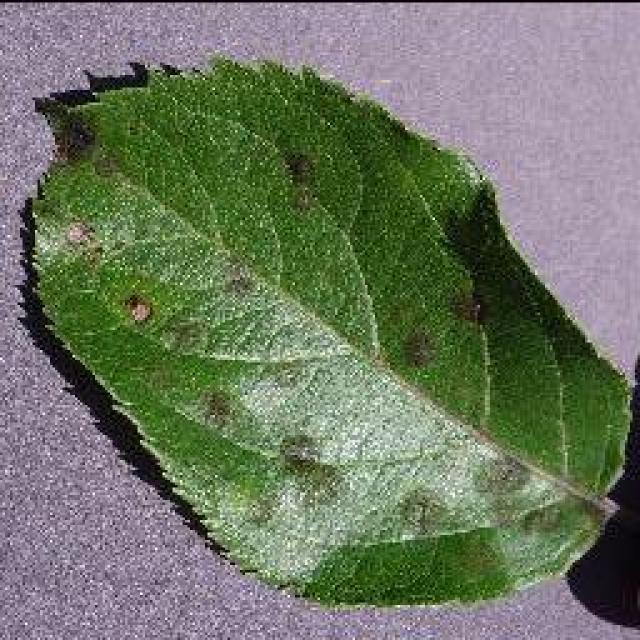apple scab disease: (20, 52, 632, 610)
